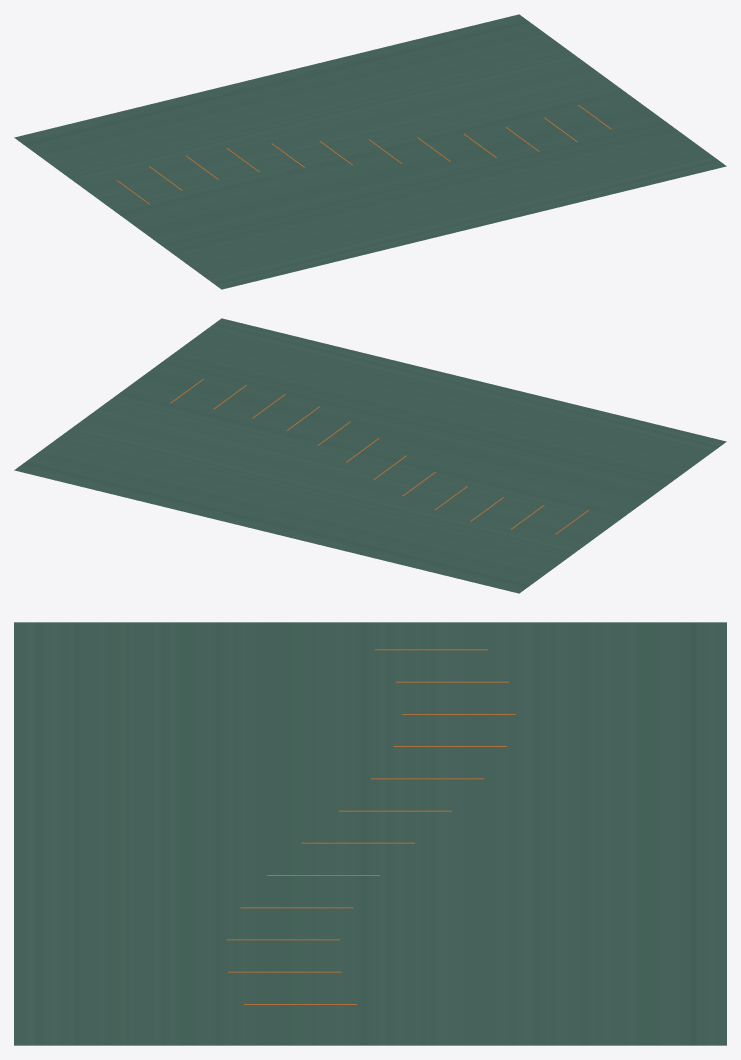
Rendered from 255_L119_L6_LayerReference.obj.
3 renders of one model, top to bottom at view 1: azimuth 30°, elevation 25°; view 2: azimuth 150°, elevation 25°; view 3: azimuth 270°, elevation 25°, orthographic. The views are drawn at different scales.
Visible parts, largest first — view 1: 255_L119_L6_LayerReference; view 2: 255_L119_L6_LayerReference; view 3: 255_L119_L6_LayerReference.
Boxes of the visible parts, x1=… form: 255_L119_L6_LayerReference: x1=14, y1=14, x2=726, y2=289; 255_L119_L6_LayerReference: x1=14, y1=318, x2=726, y2=593; 255_L119_L6_LayerReference: x1=14, y1=622, x2=726, y2=1045.
Bounding box in the file's own units: 0.486 × 0.000184 × 0.346.
2 materials, 2 textured.
